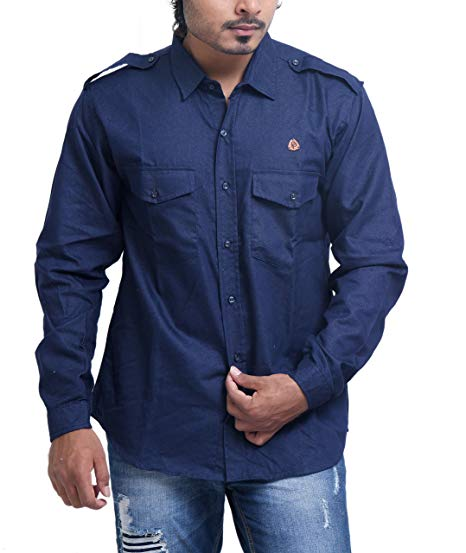Shirt: (30, 27, 415, 487)
